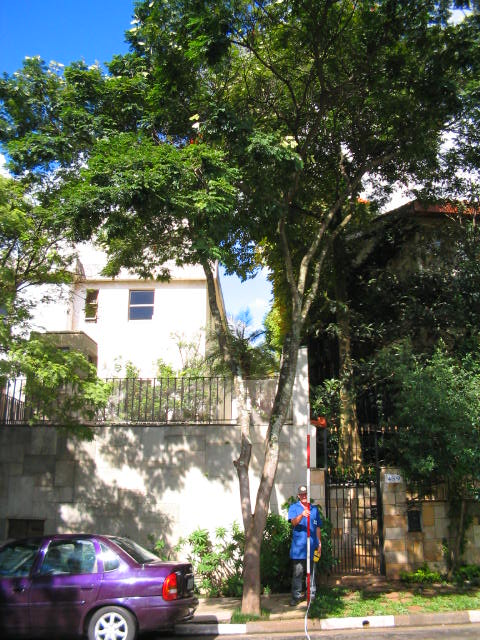crown: (76, 2, 463, 285)
stem: (232, 528, 272, 615)
stick: (299, 434, 314, 613)
tree: (73, 1, 464, 616)
